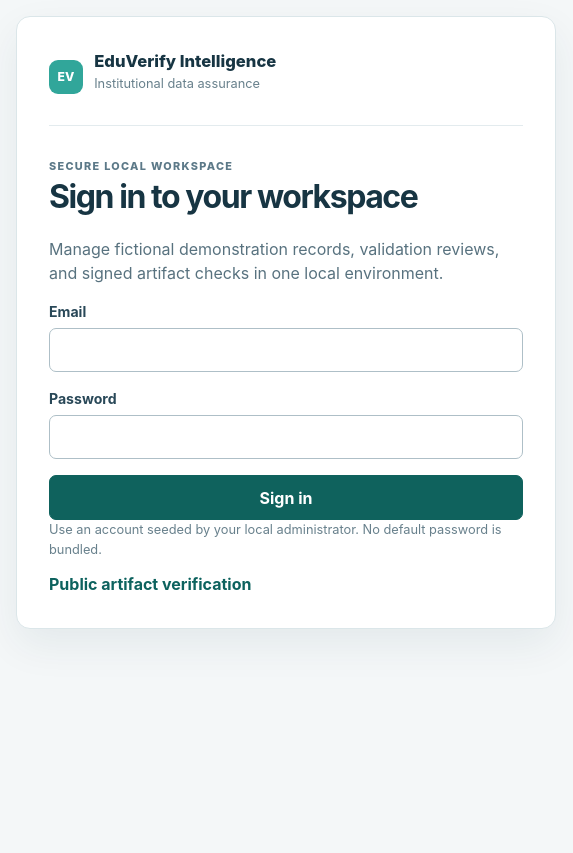
Scenario: public verification › is reachable without login and makes no student requests
The image size is (573, 853).
Click the button "Public artifact verification" at (150, 584), box [49,572,251,596]
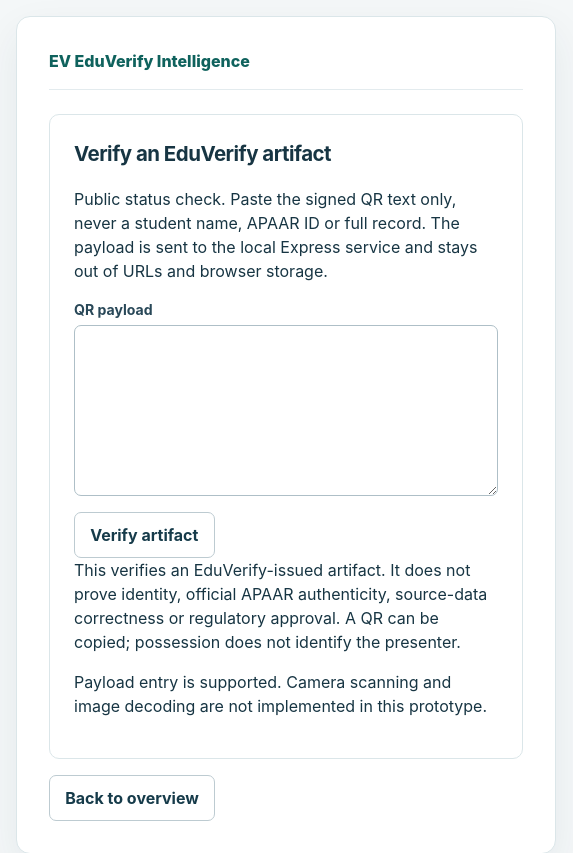
Now the heading "Verify an EduVerify artifact" is shown, box [74,141,331,166]
